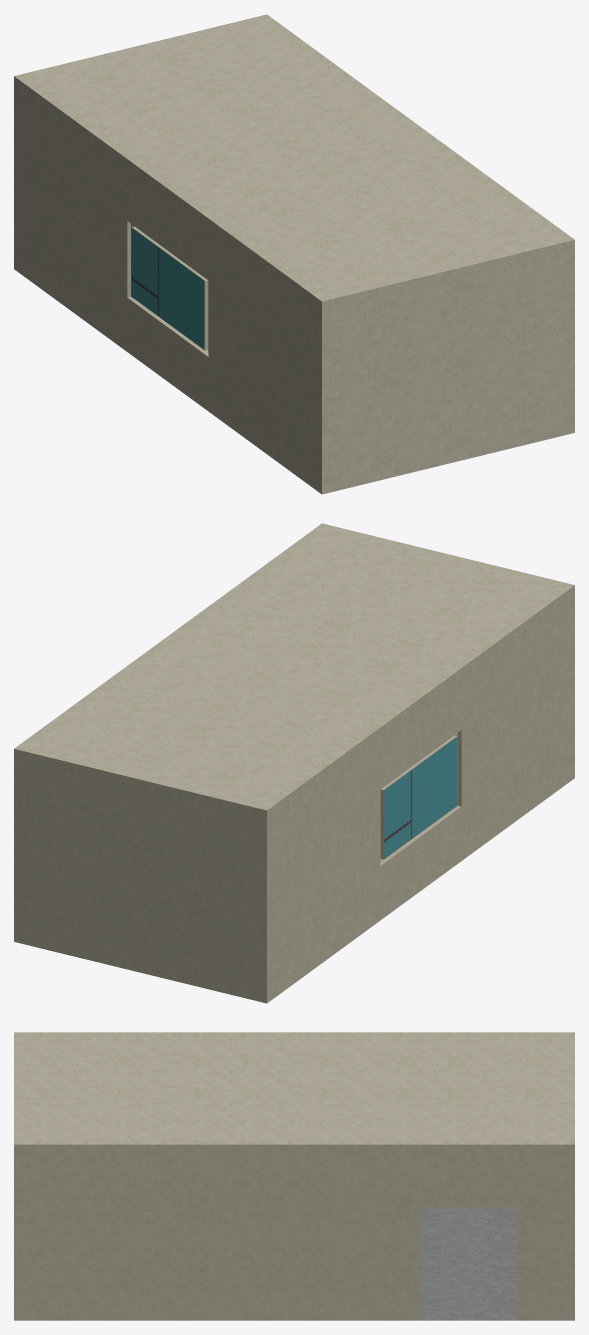
Rendered from kpp_inside.glb.
3 renders of one model, top to bottom at view 1: azimuth 30°, elevation 25°; view 2: azimuth 150°, elevation 25°; view 3: azimuth 270°, elevation 25°, orthographic. The views are drawn at different scales.
Parts seen in each view (by area): view 1: Plane, Box001.001; view 2: Plane, Box001.001; view 3: Plane.
Boxes of the visible parts, left/top/right/bottom form: Plane: left=14, top=14, right=574, bottom=494; Box001.001: left=131, top=227, right=204, bottom=349; Plane: left=14, top=523, right=574, bottom=1003; Box001.001: left=384, top=736, right=457, bottom=858; Plane: left=14, top=1032, right=574, bottom=1320.
Size of the model in its own units: 2.82 by 2.06 by 5.95.
3 materials, 3 textured.
